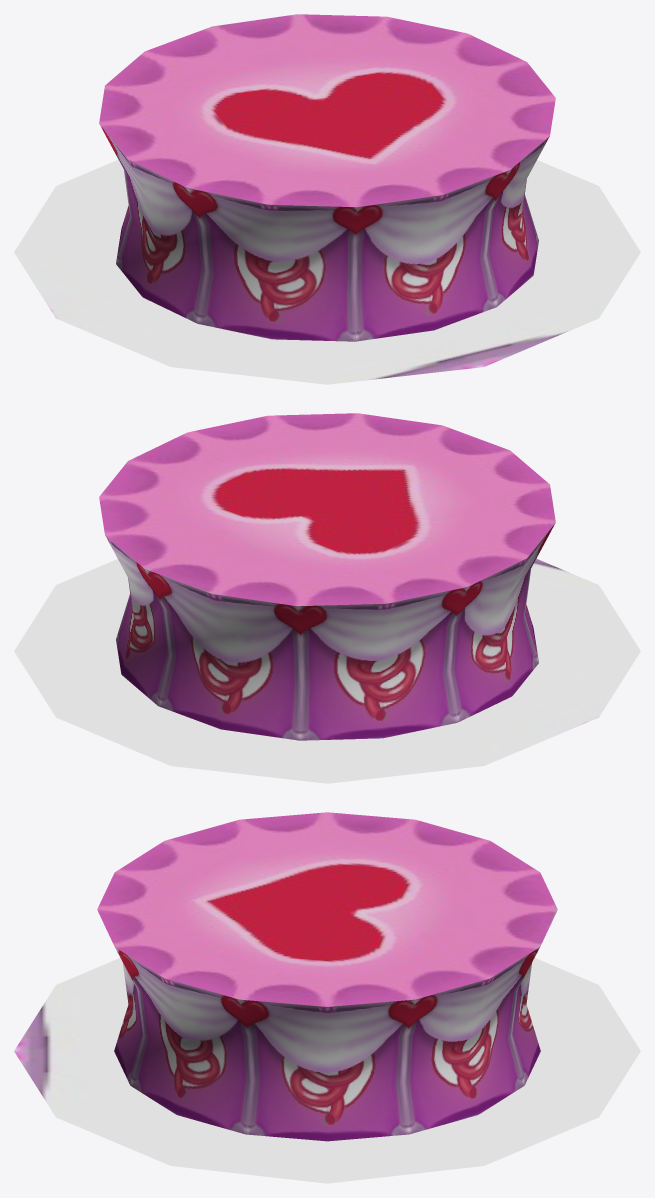
Rendered from trampoline_valentine.glb.
3 views of the same model, one above another, from view 1: azimuth 30°, elevation 25°; view 2: azimuth 150°, elevation 25°; view 3: azimuth 270°, elevation 25° (orthographic).
Visible parts, largest first — view 1: trampoline, trampoline_grp; view 2: trampoline, trampoline_grp; view 3: trampoline, trampoline_grp.
Boxes of the visible parts, x1=… form: trampoline: x1=99, y1=14, x2=555, y2=341; trampoline_grp: x1=14, y1=159, x2=640, y2=384; trampoline: x1=99, y1=413, x2=555, y2=740; trampoline_grp: x1=14, y1=558, x2=640, y2=783; trampoline: x1=97, y1=812, x2=557, y2=1141; trampoline_grp: x1=14, y1=958, x2=640, y2=1183.
Size of the model in its own units: 15.87 by 3.96 by 15.87.
2 materials, 2 textured.
